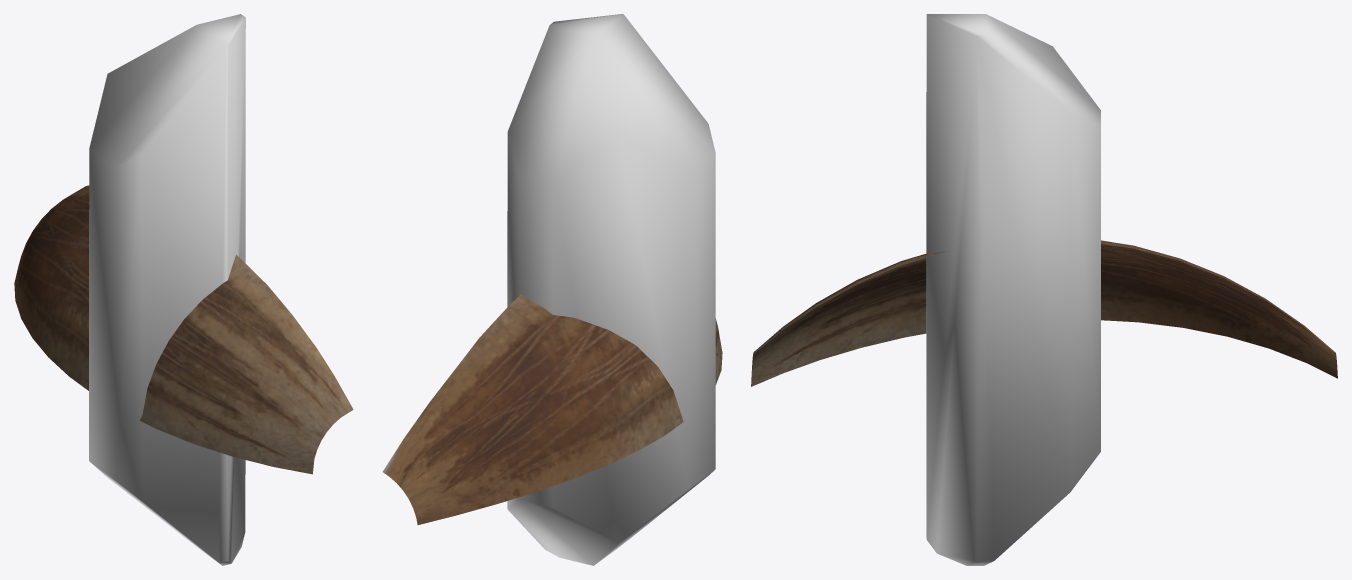
File: SM_Coir_Bent__Plane_020.fbx
3 renders of one model, left to right at view 1: azimuth 30°, elevation 25°; view 2: azimuth 150°, elevation 25°; view 3: azimuth 270°, elevation 25°, orthographic.
Parts seen in each view (by area): view 1: SM_Coir_Bent__Plane_020_ConvexHulls, SM_Coir_Bent__Plane_020; view 2: SM_Coir_Bent__Plane_020_ConvexHulls, SM_Coir_Bent__Plane_020; view 3: SM_Coir_Bent__Plane_020_ConvexHulls, SM_Coir_Bent__Plane_020.
Part boxes in pixels (left/top/right/bottom): SM_Coir_Bent__Plane_020_ConvexHulls: left=89, top=14, right=245, bottom=565; SM_Coir_Bent__Plane_020: left=14, top=185, right=353, bottom=474; SM_Coir_Bent__Plane_020_ConvexHulls: left=507, top=14, right=715, bottom=565; SM_Coir_Bent__Plane_020: left=382, top=294, right=722, bottom=524; SM_Coir_Bent__Plane_020_ConvexHulls: left=926, top=14, right=1100, bottom=565; SM_Coir_Bent__Plane_020: left=751, top=240, right=1337, bottom=386.
Bounding box in the file's own units: 0.1172 × 0.4053 × 0.4034.
